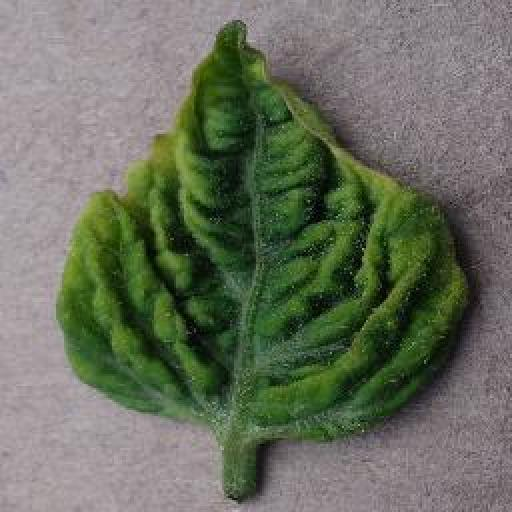Yellow Leaf Curl Virus: (57, 19, 468, 448)
